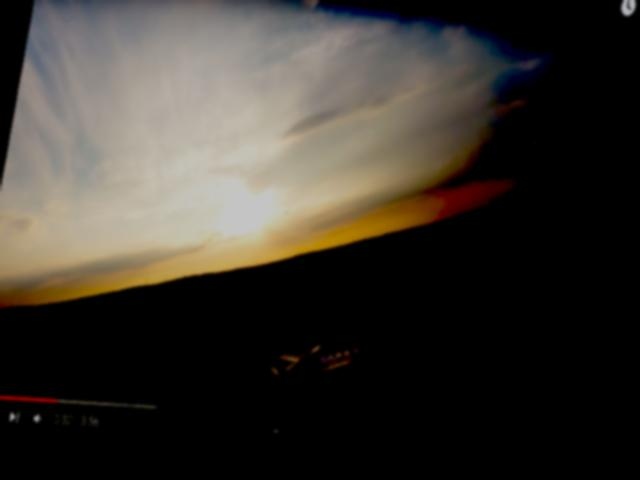plane: (265, 326, 375, 407)
